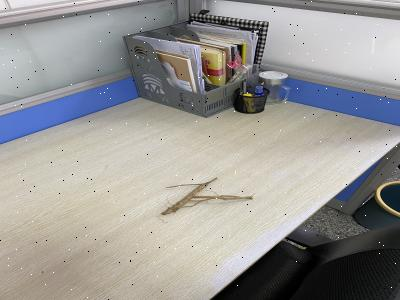Root: (162, 178, 253, 215)
